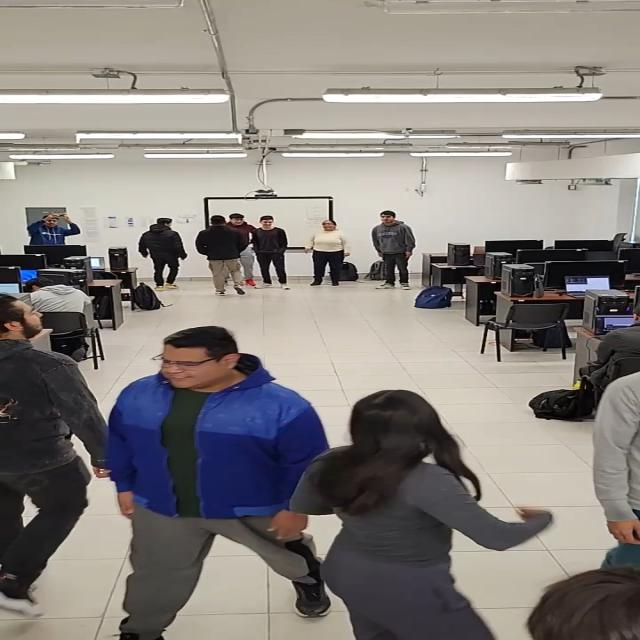Persona: (101, 324, 331, 640), (286, 387, 554, 640), (0, 292, 117, 618), (195, 215, 249, 296), (137, 218, 189, 292), (371, 210, 417, 290), (304, 220, 354, 286), (250, 214, 292, 291), (226, 213, 258, 287)
